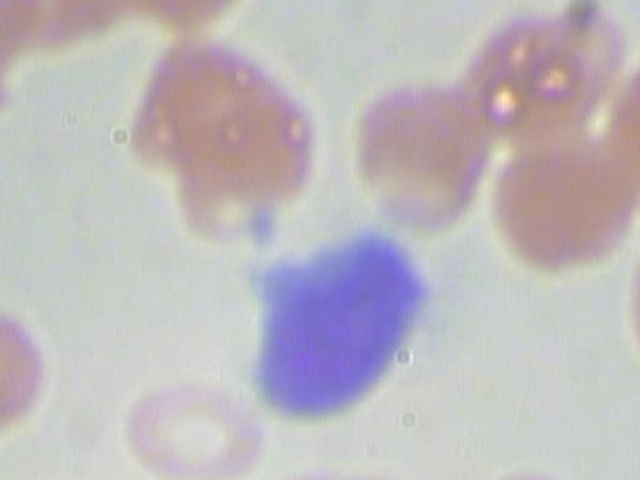Platelets: (244, 201, 283, 254)
RBC: (482, 120, 637, 285), (349, 73, 495, 236), (172, 54, 317, 217), (122, 381, 268, 480), (113, 0, 265, 44), (0, 298, 46, 436), (249, 462, 405, 480), (0, 0, 17, 136), (466, 462, 587, 480)
WBC: (246, 228, 437, 423)
